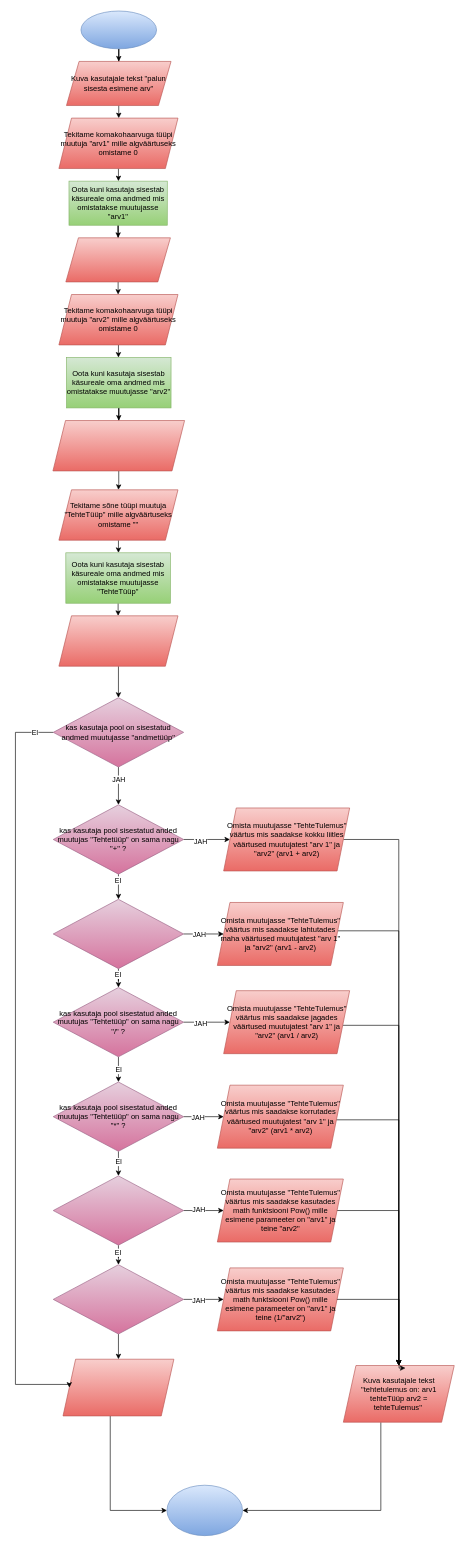
The diagram is 466 pixels wide and 1547 high, and some of its shapes have lost their labels. Here are the shapes that lost their labels. From the top down, the centre of each, then its label:
pixel 118 29: ALGUS
pixel 117 259: Kuva kasutajale tekst "palun sisesta teine arv"
pixel 118 445: Kuva kasutajale tekst "Mis tehet sa teha soovid?(+ , - , / , * , ^ , V)"
pixel 118 640: Tekitame double tüüpi muutuja "TehteTulemus" mille algväärtuseks omistame 0
pixel 118 934: kas kasutaja pool sisestatud anded muutujas "Tehtetüüp" on sama nagu "-" ?
pixel 118 1210: kas kasutaja pool sisestatud anded muutujas "Tehtetüüp" on sama nagu "^" ?
pixel 118 1299: kas kasutaja pool sisestatud anded muutujas "Tehtetüüp" on sama nagu "V" ?
pixel 118 1387: Kuva kasutajale tekst "tehtetüüp pole valitud , tehet ei sooritata"
pixel 204 1510: LÕPP
